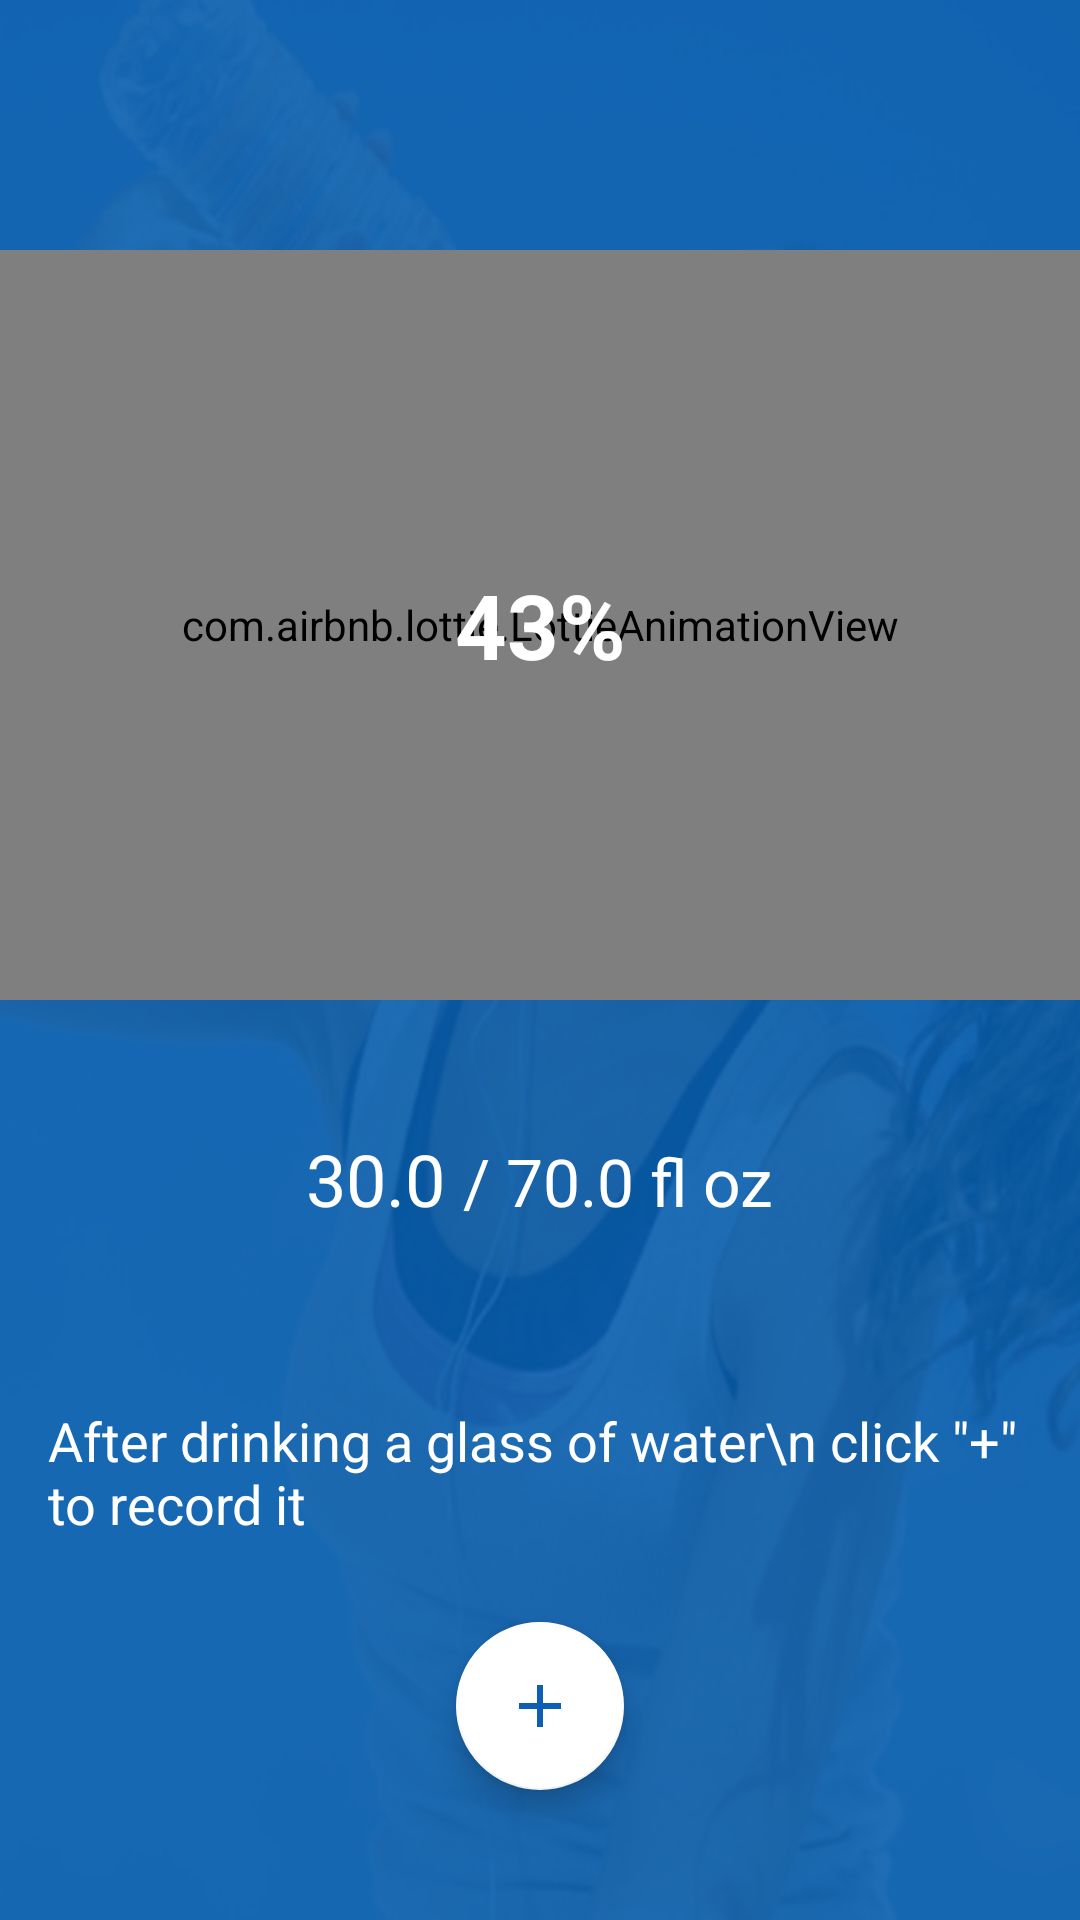

Named icons in this screenshot (1080×1920) and their centers, point (x, y):
add: point (540, 1706)
